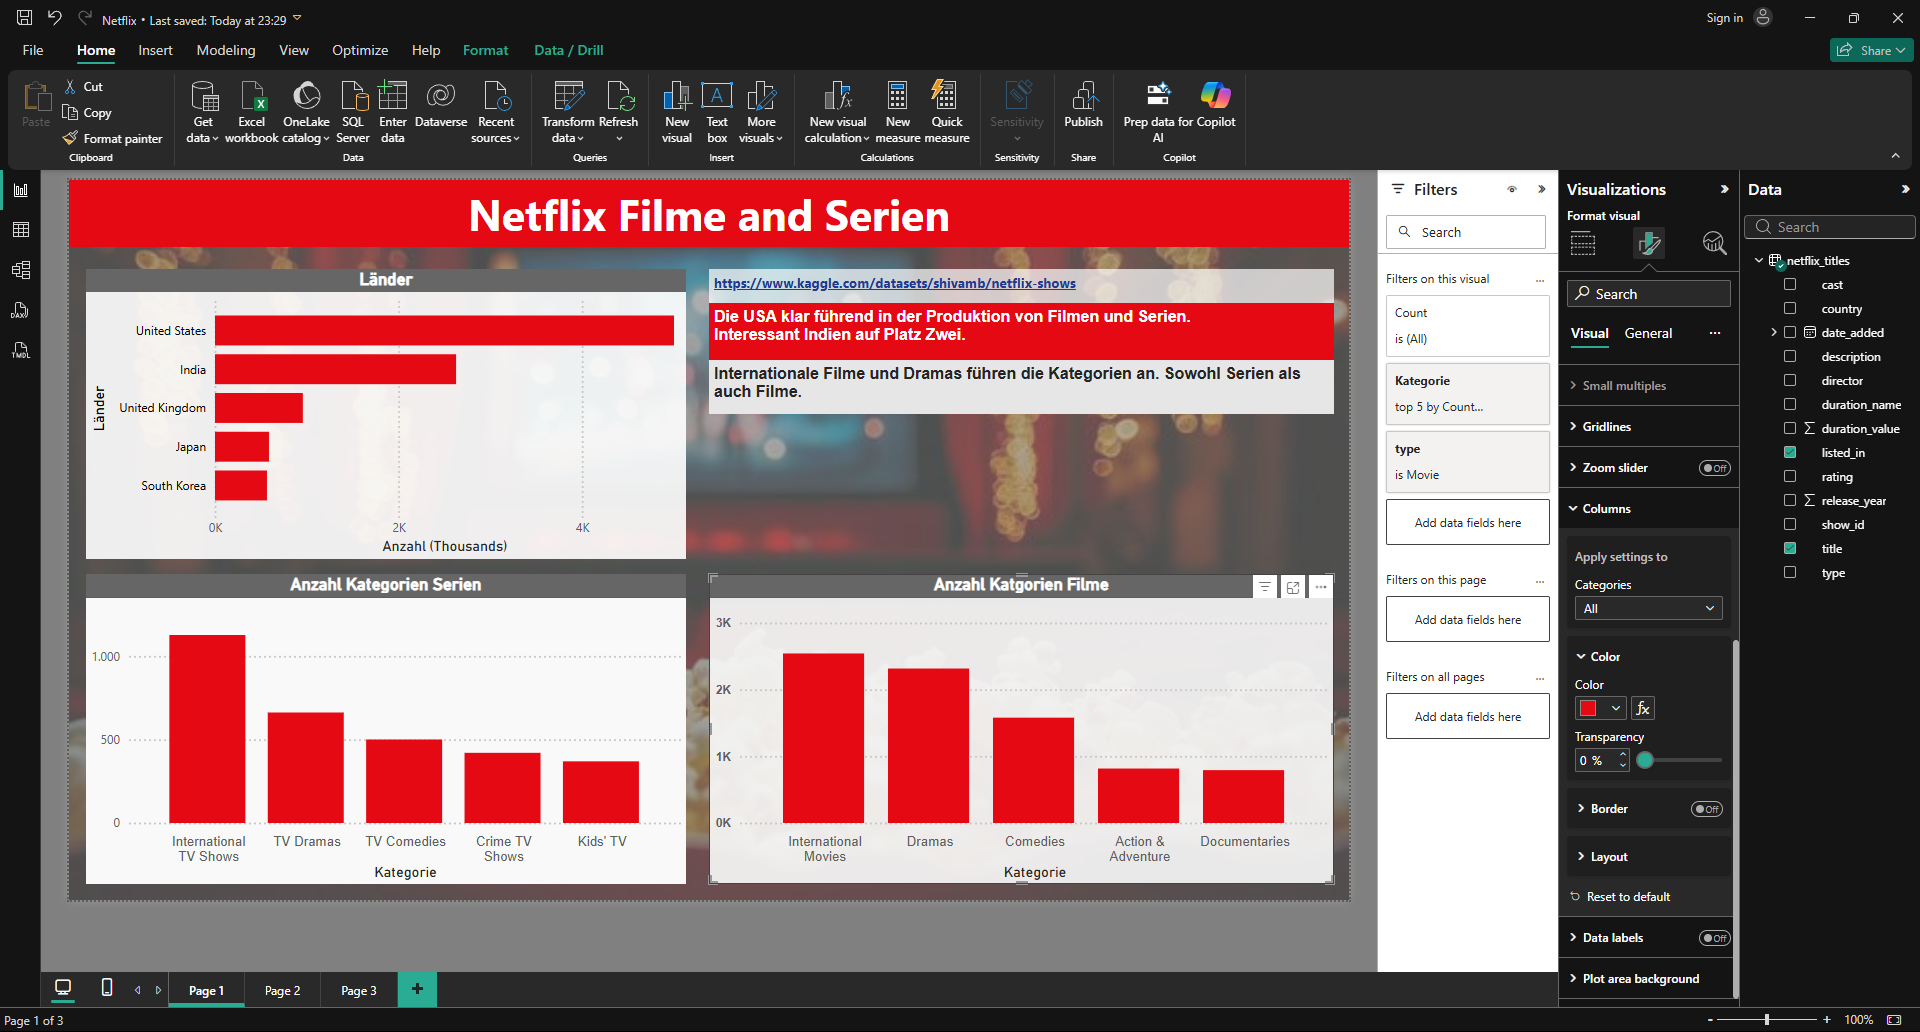

The dashboard page shown, as its layout file describes it:
{"tool":"powerbi","page":{"name":"Page 1","canvas":[1280,720],"ordinal":0},"visuals":[{"type":"textbox","box":[0,0,1280,67.2],"z":0},{"type":"clusteredColumnChart","title":"Anzahl Katgorien Filme","fields":{"Category":["netflix_titles.listed_in"],"Y":["CountNonNull(netflix_titles.title)"]},"box":[640,394.4,624.6,309.9],"z":1000},{"type":"clusteredBarChart","title":"Länder","fields":{"Category":["netflix_titles.country"],"Y":["CountNonNull(netflix_titles.country)"]},"box":[17.3,89.2,599.7,289.8],"z":2000},{"type":"textbox","box":[640,122.8,624.6,57.6],"z":4000},{"type":"textbox","box":[640,89.2,624.6,33.6],"z":5000},{"type":"textbox","box":[640,180.4,624.6,53.7],"z":6000},{"type":"clusteredColumnChart","title":"Anzahl Kategorien Serien","fields":{"Category":["netflix_titles.listed_in"],"Y":["CountNonNull(netflix_titles.title)"]},"box":[17.3,394.4,599.7,309.9],"z":7001}]}

Visuals, with their boxes on the page's 1280x720 design canvas (x1, y1, x2, y2). These are canvas units, not pixel positions in the 1920x1032 screenshot, which may show the page scaled, cropped or inside an application window:
textbox: Rect(0, 0, 1280, 67)
"Anzahl Katgorien Filme" clusteredColumnChart: Rect(640, 394, 1265, 704)
"Länder" clusteredBarChart: Rect(17, 89, 617, 379)
textbox: Rect(640, 123, 1265, 180)
textbox: Rect(640, 89, 1265, 123)
textbox: Rect(640, 180, 1265, 234)
"Anzahl Kategorien Serien" clusteredColumnChart: Rect(17, 394, 617, 704)
